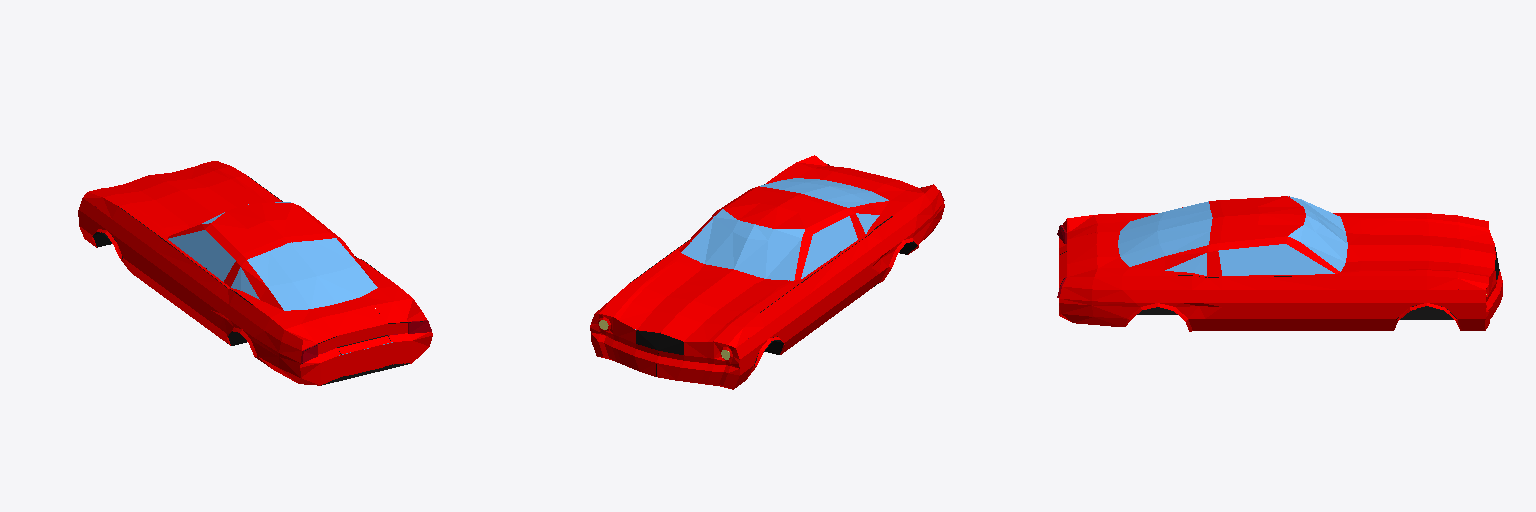
3 renders of one model, left to right at view 1: azimuth 30°, elevation 25°; view 2: azimuth 150°, elevation 25°; view 3: azimuth 270°, elevation 25°, orthographic.
Parts seen in each view (by area): view 1: Circle; view 2: Circle; view 3: Circle.
Part boxes in pixels (bbox=[...]): Circle: bbox=[78, 161, 432, 385]; Circle: bbox=[590, 155, 944, 389]; Circle: bbox=[1057, 196, 1502, 331].
Bounding box in the file's own units: 1.37 × 0.7079 × 3.38.
Materials: 1 (1 with a texture image).